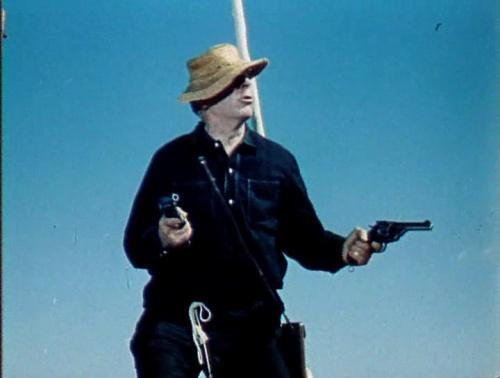Gun: (367, 219, 435, 253), (156, 194, 187, 230)
